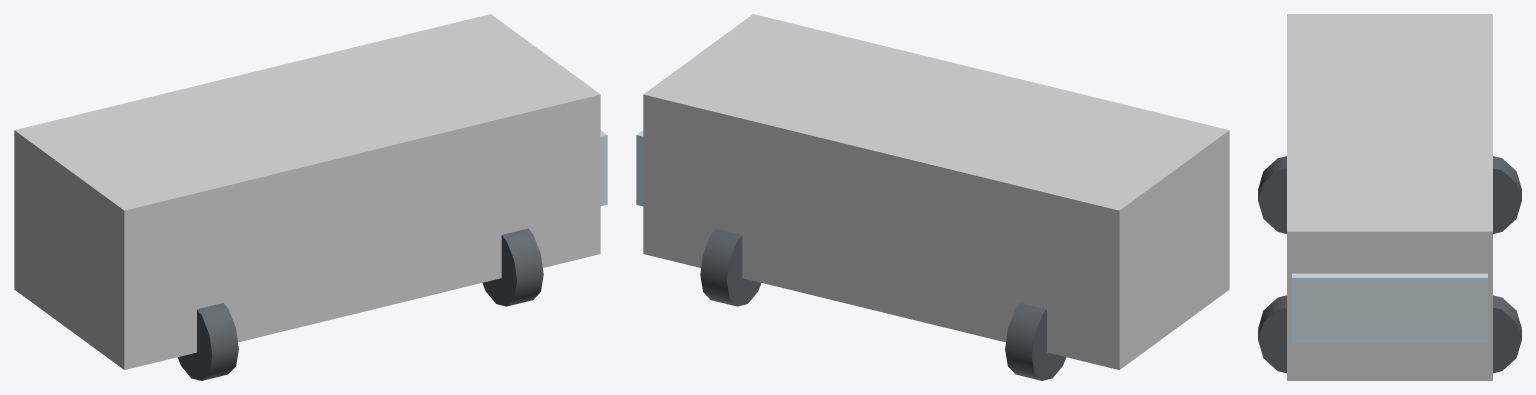
Rendered from Van.glb.
The picture shows the model from 3 angles, left to right: view 1: azimuth 30°, elevation 25°; view 2: azimuth 150°, elevation 25°; view 3: azimuth 270°, elevation 25°; orthographic projection. The views are drawn at different scales.
Visible parts, largest first — view 1: model; view 2: model; view 3: model.
Part boxes in pixels (x1,y1,x2,y2): model: (14,14,607,380); model: (636,14,1229,380); model: (1258,14,1521,380).
Size of the model in its own units: 5.1 by 1.9 by 2.56.
